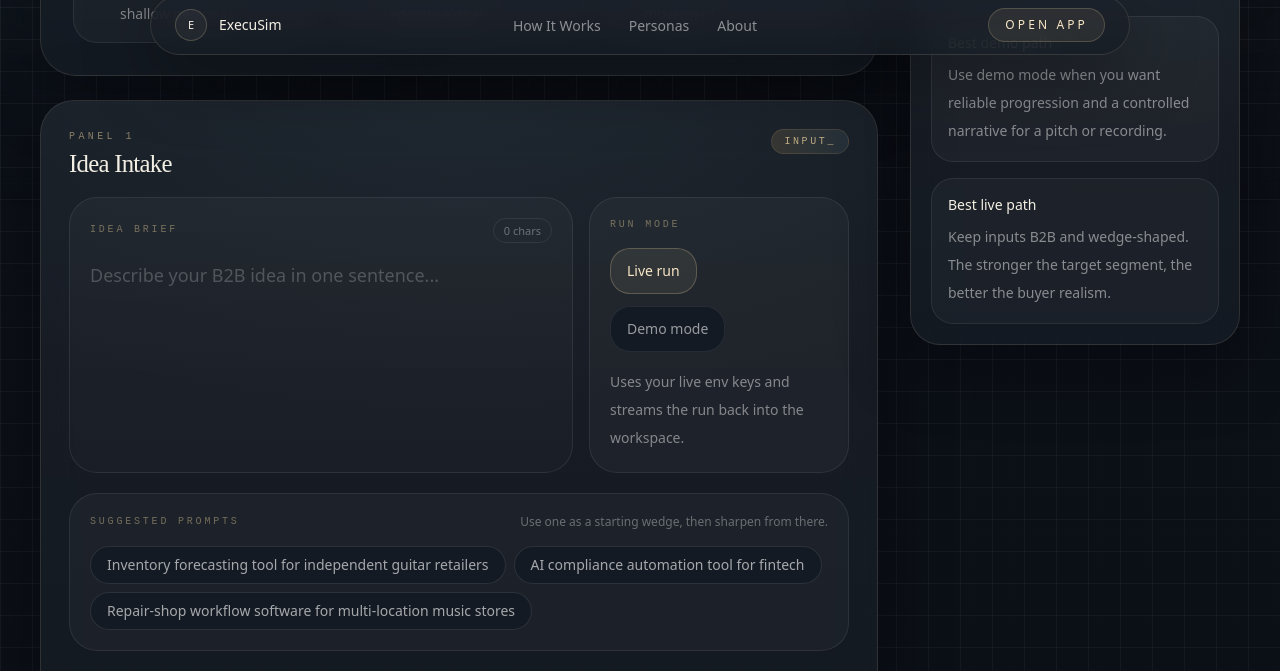
Test: SimulatePage › disables input while simulation is running
This screenshot has width=1280, height=671.
(page scrolled)
In the text box with test id "idea-input": (321, 335) [90,259,552,411], type "AI compliance tool for fintech"
(page scrolled)
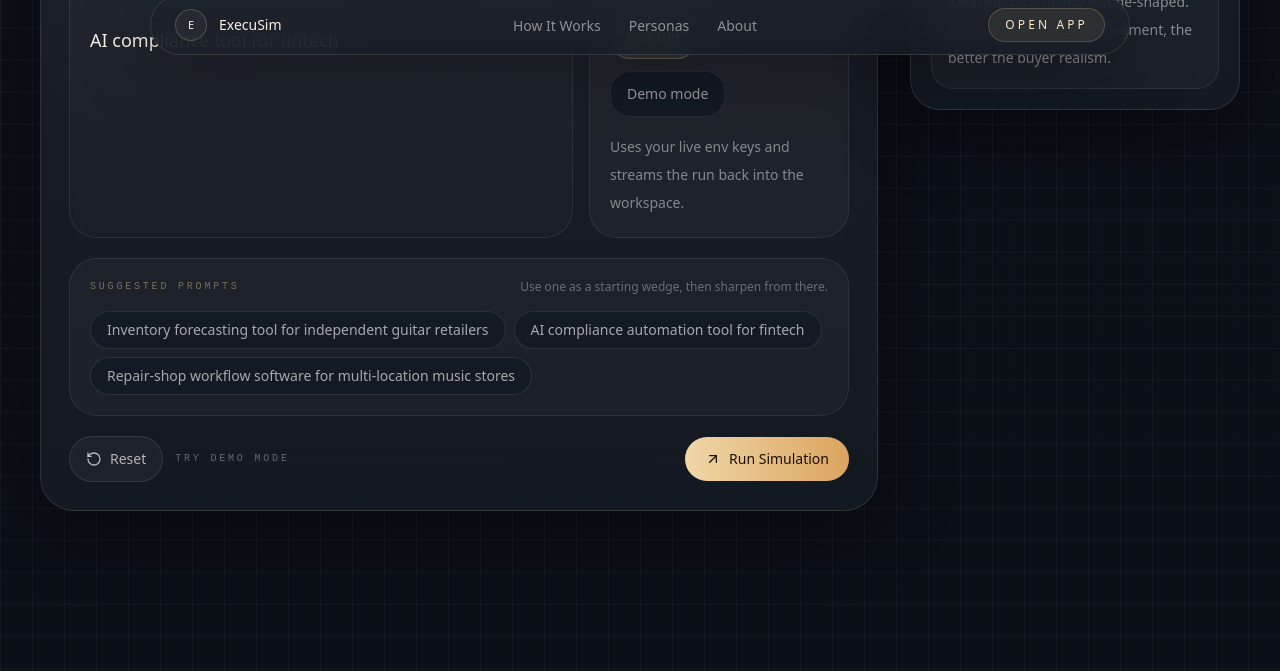
Click the button with test id "submit-button": (767, 459) [685,437,849,481]
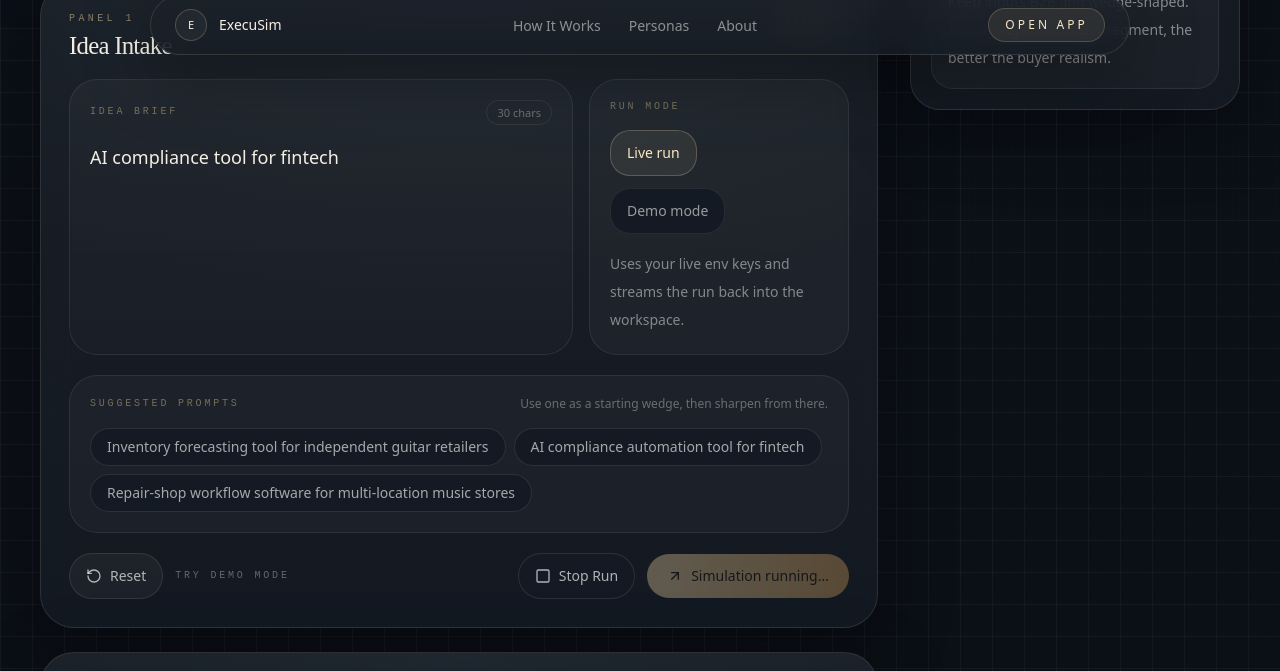
expect the text box with test id "idea-input" is disabled: met, box [90,141,552,293]
